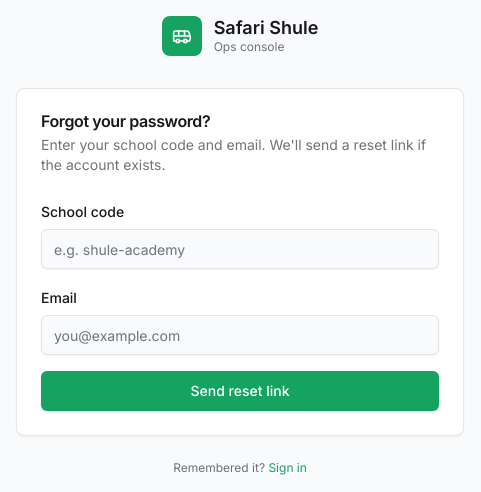
Test: ForgotPasswordPage › shows the check-your-inbox state after successful submission
The image size is (481, 492).
In the field labelled "School code": point(240, 249) [41,229,439,269], type "shule-academy"
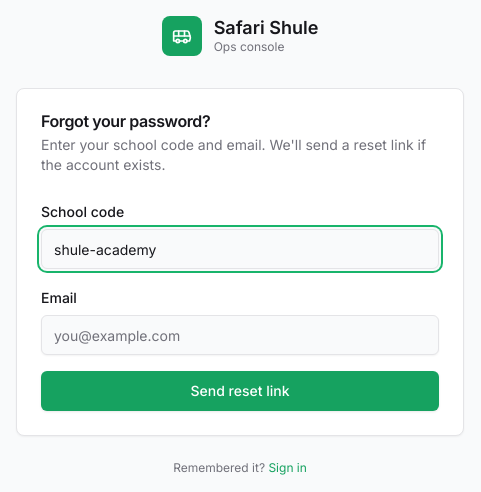
In the field labelled "Email": point(240, 335) [41,315,439,355], type "admin@shule.test"
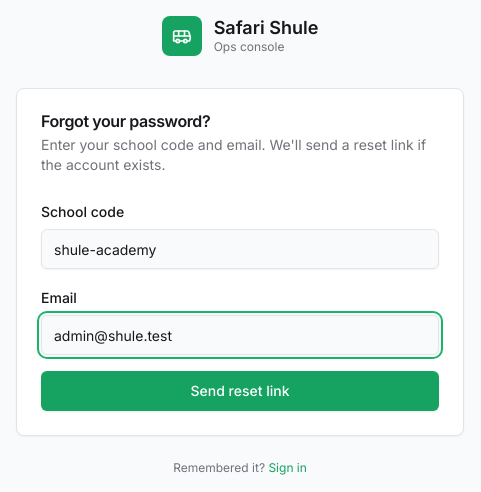
Click the button "Send reset link": point(240, 391) [41,371,439,411]
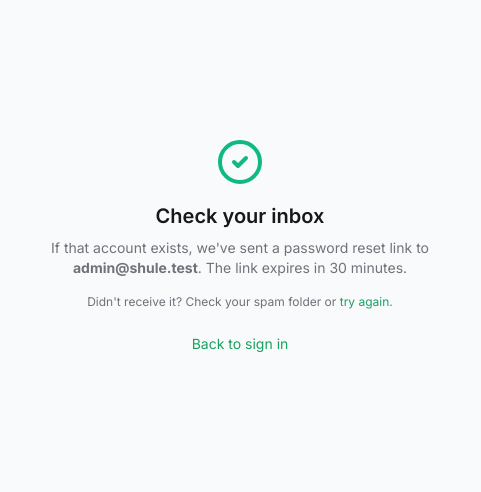
Now the heading "Check your inbox" is shown, box [156,204,324,228]
